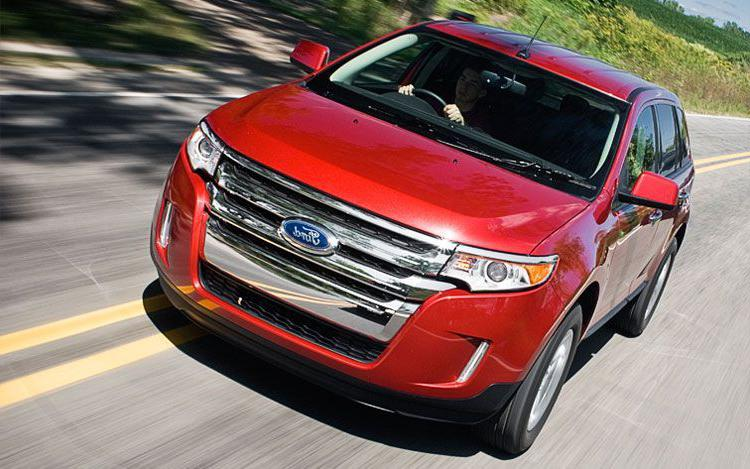Car: (98, 1, 715, 469)
